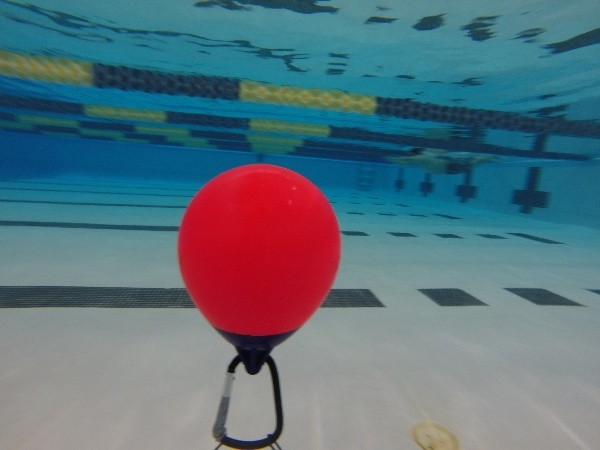buoy_red: (161, 157, 348, 380)
